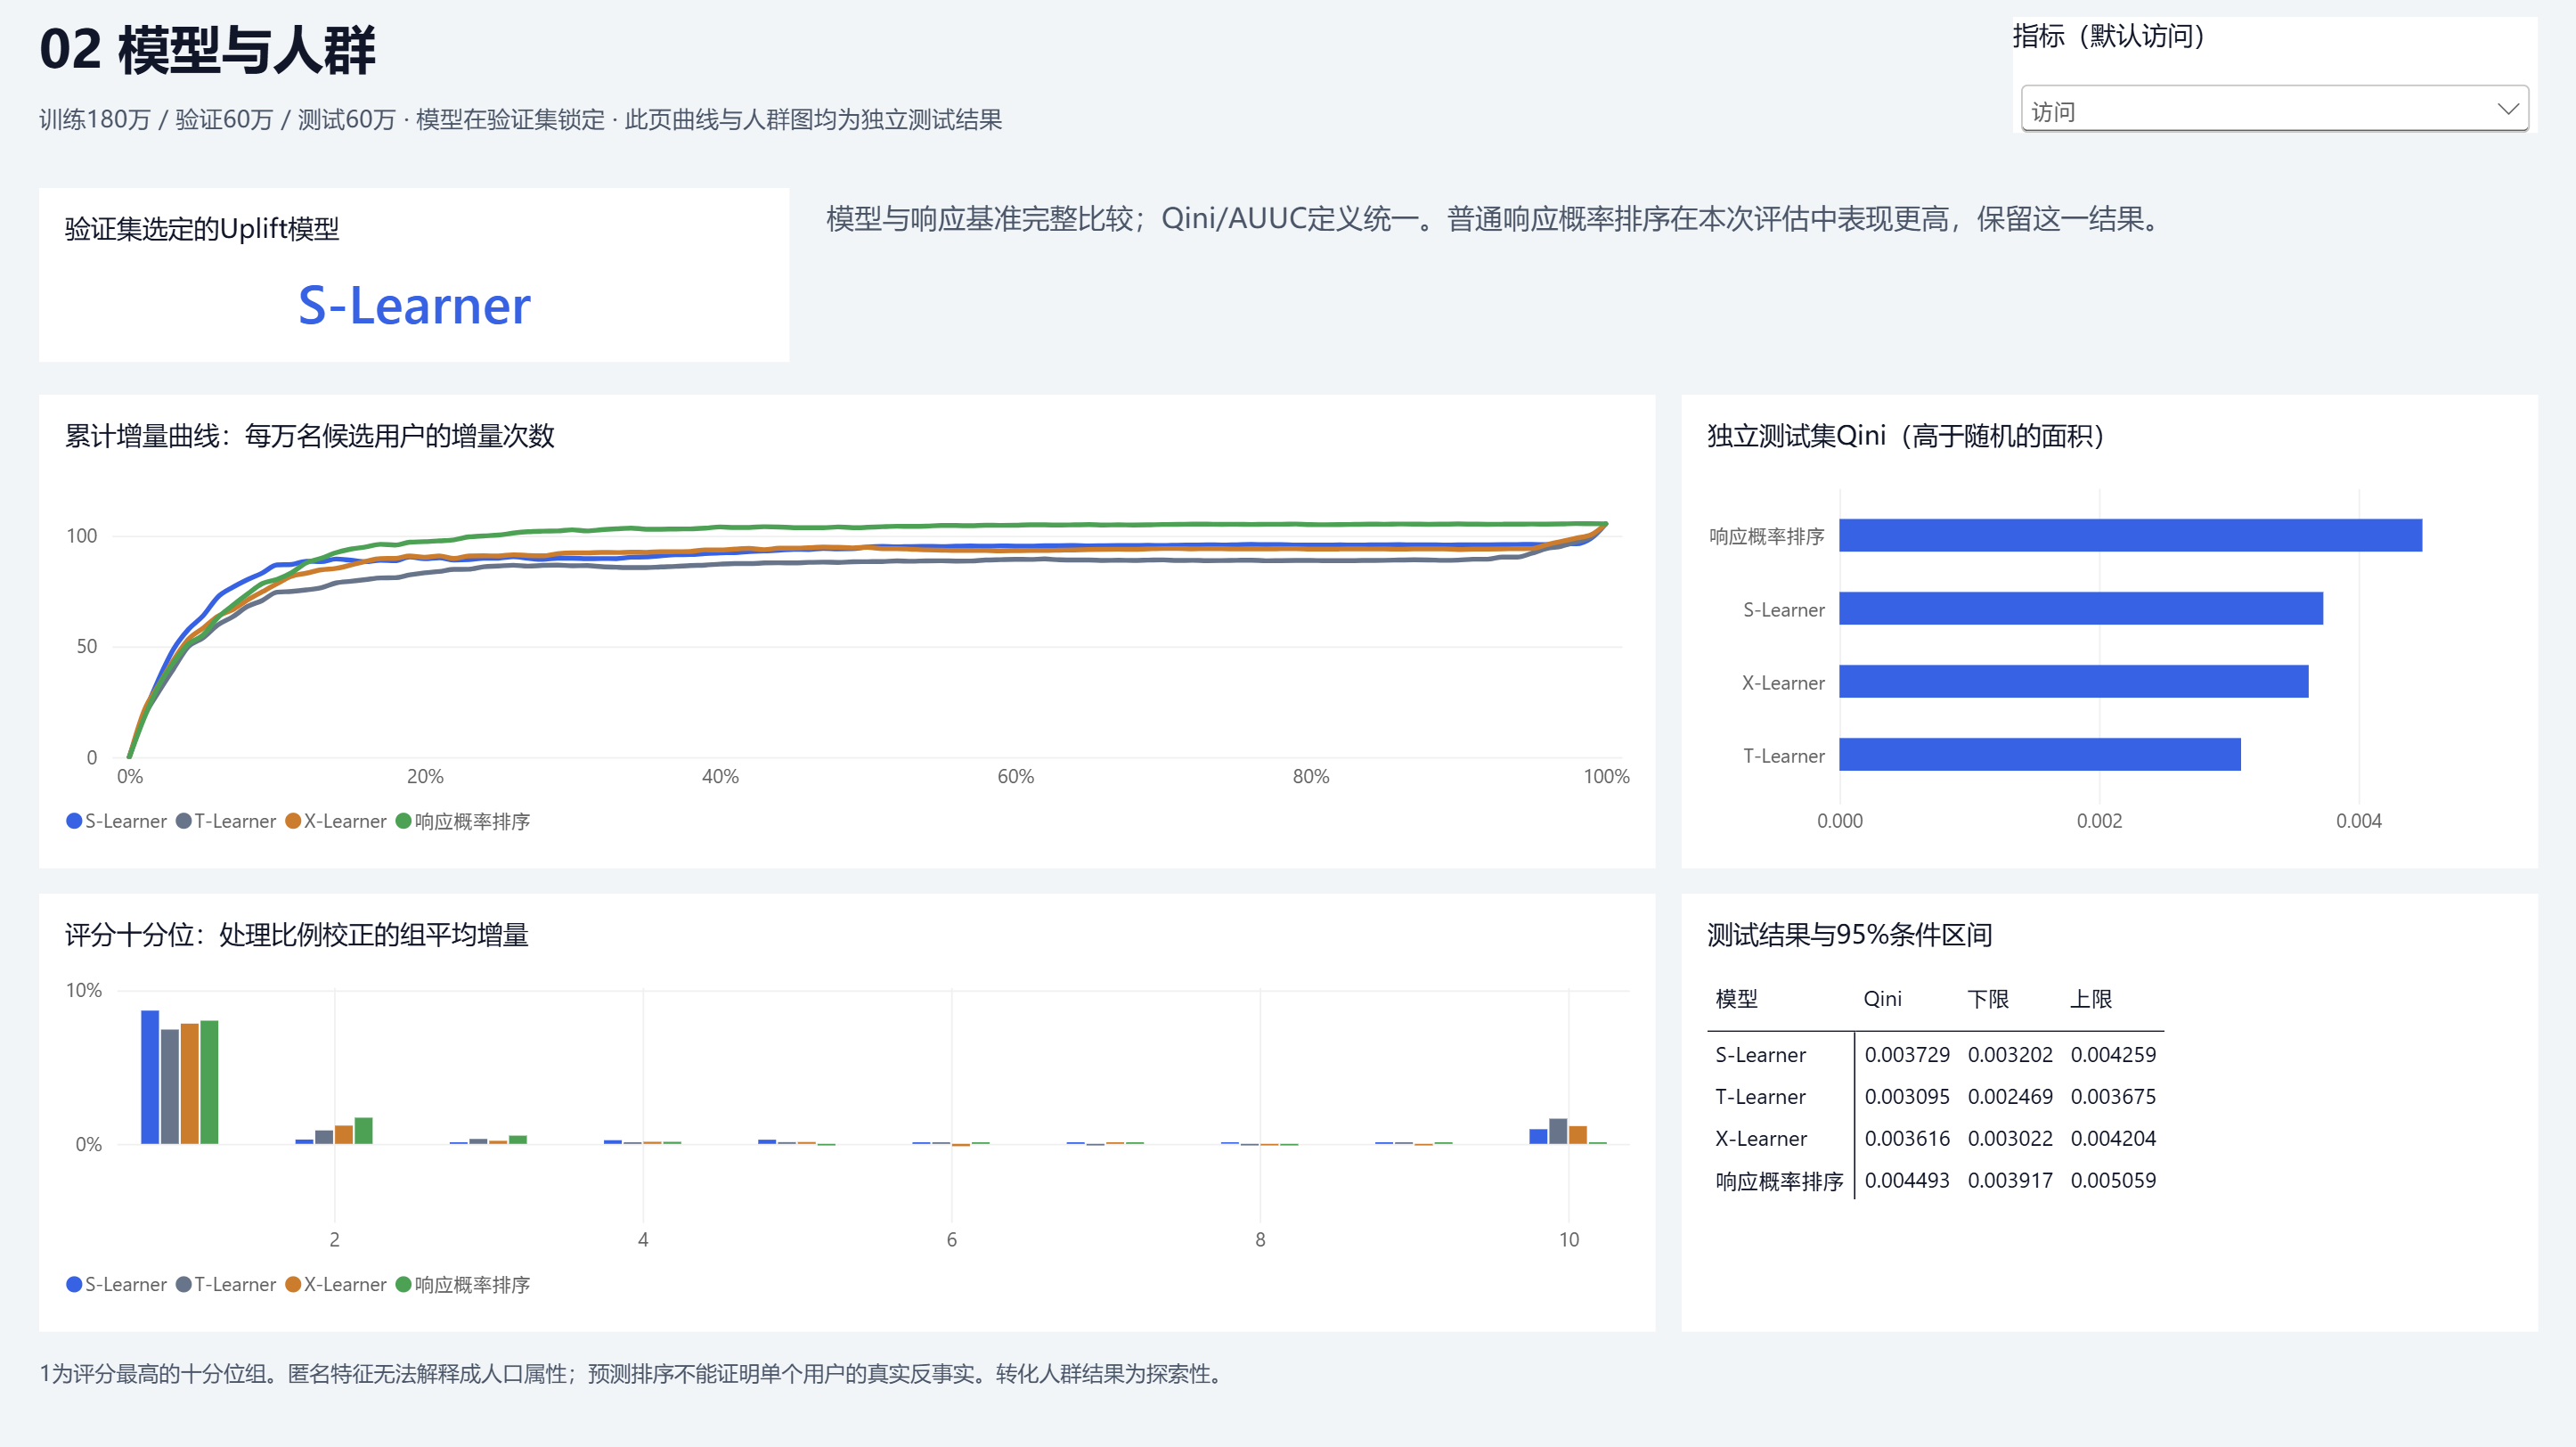

The dashboard page shown, as its layout file describes it:
{"tool":"powerbi","page":{"name":"02 模型与人群","canvas":[1600,900],"ordinal":1},"visuals":[{"type":"textbox","box":[24,8,1180,56],"z":0},{"type":"slicer","title":"指标（默认访问）","fields":{"Values":["dim_outcome.outcome_label"]},"box":[1250,12,326,72],"z":0},{"type":"textbox","box":[24,64,1180,44],"z":0},{"type":"card","title":"验证集选定的Uplift模型","fields":{"Values":["Metrics.Selected Model"]},"box":[24,118,466,108],"z":0},{"type":"textbox","box":[514,124,1060,96],"z":0},{"type":"lineChart","title":"累计增量曲线：每万名候选用户的增量次数","fields":{"Category":["uplift_curves.budget_fraction"],"Series":["dim_model.model_label"],"Y":["Metrics.Curve Increment"]},"box":[24,246,1004,294],"z":0},{"type":"clusteredBarChart","title":"独立测试集Qini（高于随机的面积）","fields":{"Category":["dim_model.model_label"],"Y":["Metrics.Test Qini"]},"box":[1044,246,532,294],"z":0},{"type":"clusteredColumnChart","title":"评分十分位：处理比例校正的组平均增量","fields":{"Category":["decile_profiles.decile"],"Series":["dim_model.model_label"],"Y":["Metrics.Decile Effect"]},"box":[24,556,1004,272],"z":0},{"type":"pivotTable","title":"测试结果与95%条件区间","fields":{"Rows":["dim_model.model_label"],"Values":["Metrics.Test Qini","Metrics.Test Qini Lower","Metrics.Test Qini Upper"]},"box":[1044,556,532,272],"z":0},{"type":"textbox","box":[24,844,1552,40],"z":0}]}

Visuals, with their boxes in screenshot pixels (x1, y1, x2, y2), scaled from the page's 1600x900 canvas onto the 2576x1447 screenshot:
textbox: rect(38, 12, 1938, 102)
"指标（默认访问）" slicer: rect(2012, 20, 2538, 135)
textbox: rect(38, 102, 1938, 174)
"验证集选定的Uplift模型" card: rect(38, 190, 789, 364)
textbox: rect(827, 200, 2534, 354)
"累计增量曲线：每万名候选用户的增量次数" lineChart: rect(38, 396, 1655, 868)
"独立测试集Qini（高于随机的面积）" clusteredBarChart: rect(1681, 396, 2538, 868)
"评分十分位：处理比例校正的组平均增量" clusteredColumnChart: rect(38, 894, 1655, 1331)
"测试结果与95%条件区间" pivotTable: rect(1681, 894, 2538, 1331)
textbox: rect(38, 1357, 2538, 1421)
